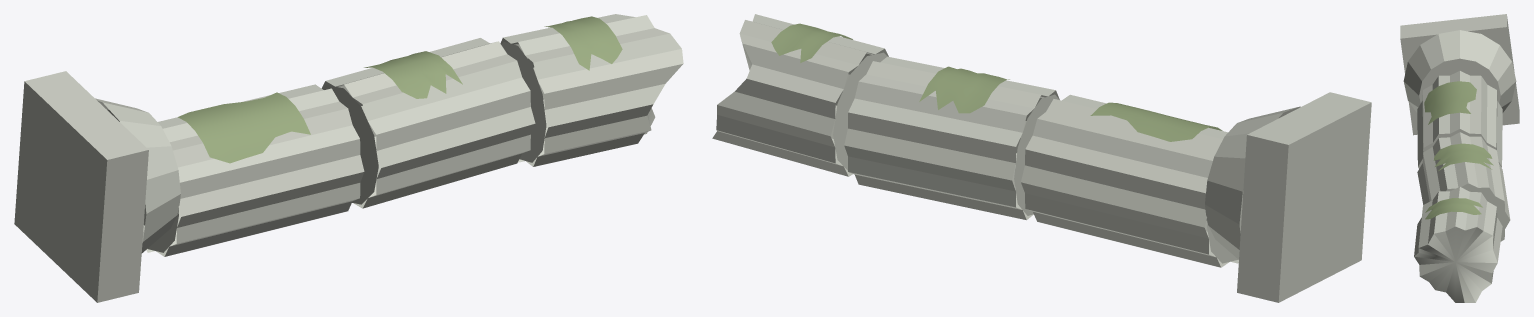
File: ruin_column_fallen.glb
3 views of the same model, side by side, from view 1: azimuth 30°, elevation 25°; view 2: azimuth 150°, elevation 25°; view 3: azimuth 270°, elevation 25° (orthographic). The views are drawn at different scales.
Parts seen in each view (by area): view 1: ruin_column_fallen; view 2: ruin_column_fallen; view 3: ruin_column_fallen.
Boxes of the visible parts, x1,y1,x2,y2 form: ruin_column_fallen: (14,14,683,302); ruin_column_fallen: (712,14,1371,302); ruin_column_fallen: (1400,14,1519,302).
Bounding box in the file's own units: 4.89 × 1.31 × 1.31.
